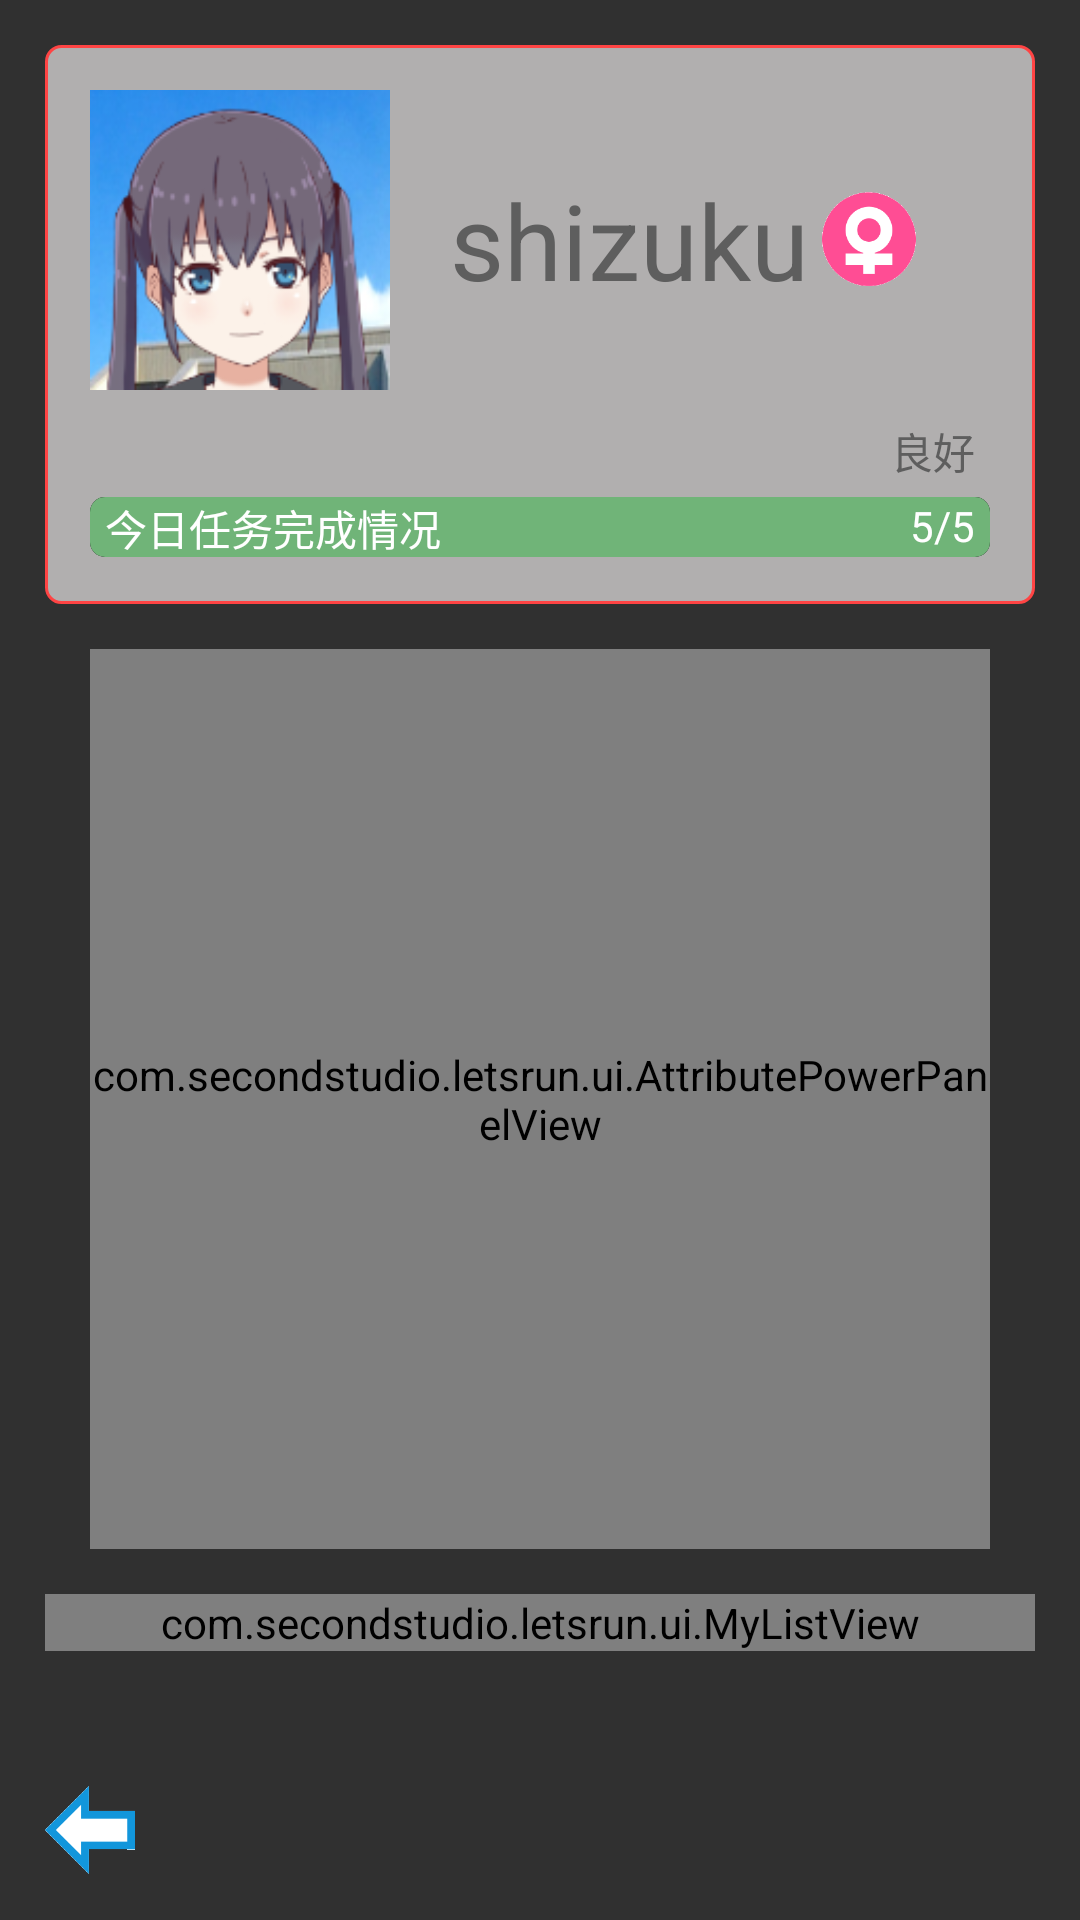

Point at icon controls on the screen. Image size 1080*1920, points as (x,y).
back: (90,1830)
girl: (869,239)
